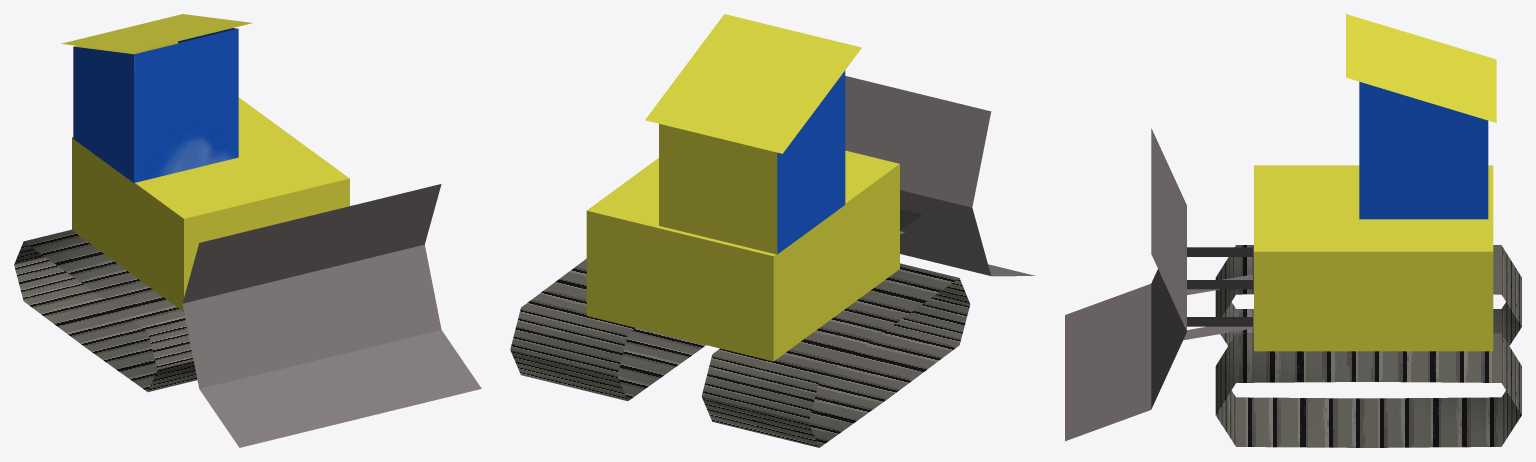
The model's file is ORG_BULL_DOZER.obj.
3 renders of one model, left to right at view 1: azimuth 30°, elevation 25°; view 2: azimuth 150°, elevation 25°; view 3: azimuth 270°, elevation 25°, orthographic. The views are drawn at different scales.
Visible parts, largest first — view 1: 2, default; view 2: 2, default; view 3: 2, default.
Part boxes in pixels (x1,y1,x2,y2): 2: (61, 14, 481, 447); default: (14, 229, 197, 391); 2: (586, 14, 1035, 361); default: (510, 259, 970, 447); 2: (1065, 14, 1496, 441); default: (1215, 245, 1521, 447).
Bounding box in the file's own units: 17.06 × 18.12 × 23.88.
2 materials, 2 textured.
